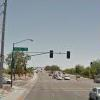Traffic light: (40, 48, 86, 67)
